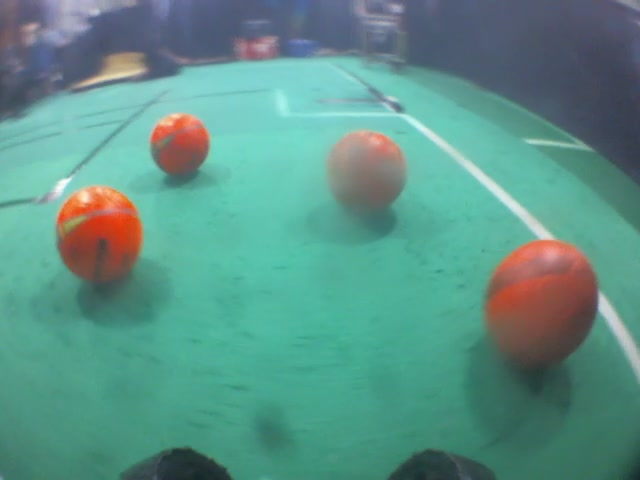ball: (476, 231, 607, 379), (51, 184, 149, 287), (319, 125, 413, 227), (146, 110, 218, 186)
